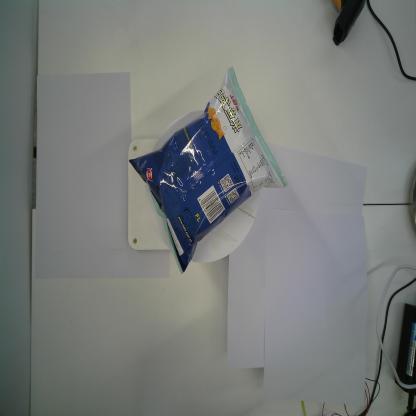Puffed Food: (128, 64, 287, 278)
